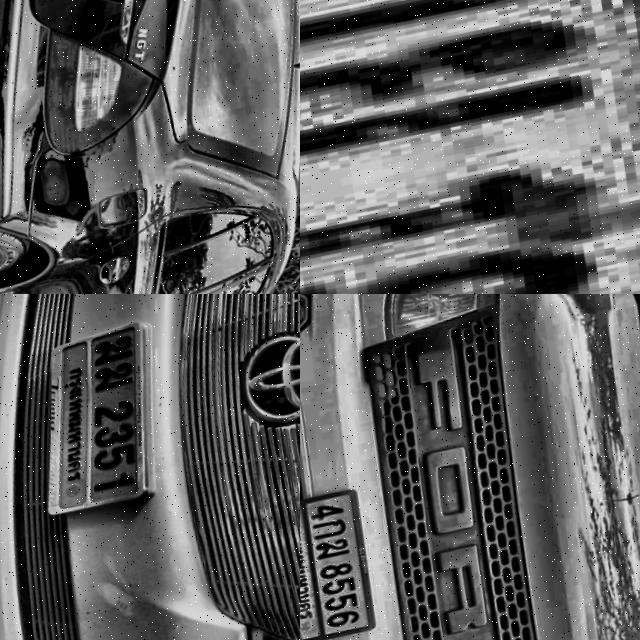license-plate: (300, 0, 640, 294), (19, 317, 188, 522), (300, 485, 385, 640)
